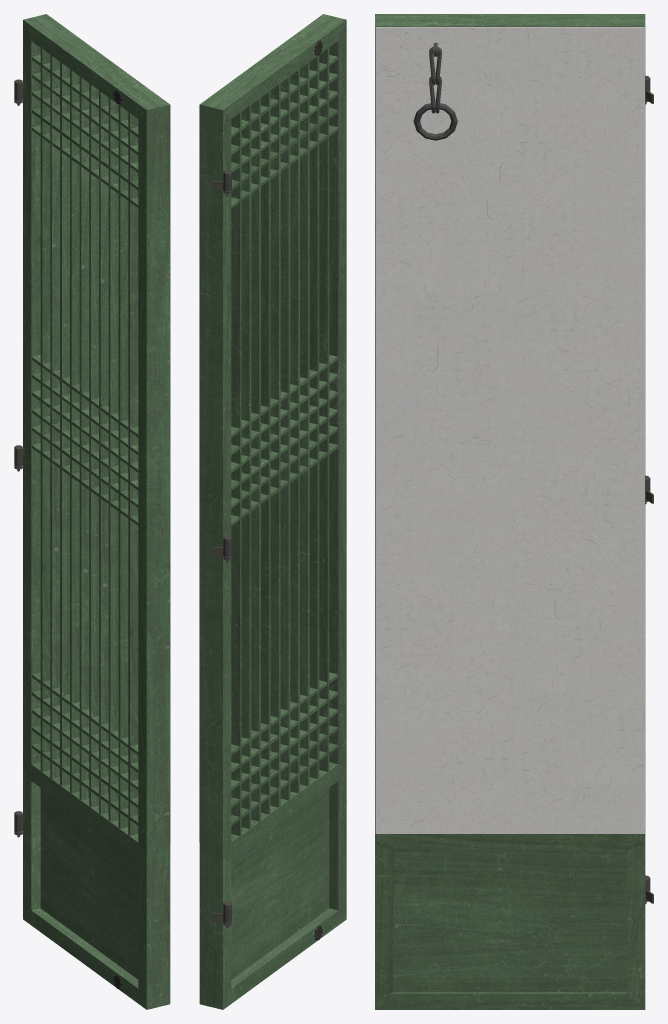
The model's file is SM_Door03C.fbx.
The picture shows the model from 3 angles, left to right: view 1: azimuth 30°, elevation 25°; view 2: azimuth 150°, elevation 25°; view 3: azimuth 270°, elevation 25°; orthographic projection. The views are drawn at different scales.
Parts seen in each view (by area): view 1: SM_Door03C; view 2: SM_Door03C; view 3: SM_Door03C.
Part boxes in pixels (left/top/right/bottom): SM_Door03C: left=14, top=14, right=170, bottom=1009; SM_Door03C: left=199, top=14, right=346, bottom=1009; SM_Door03C: left=375, top=14, right=653, bottom=1009.
Bounding box in the file's own units: 10.85 × 50.59 × 197.
Materials: 1 (1 with a texture image).
